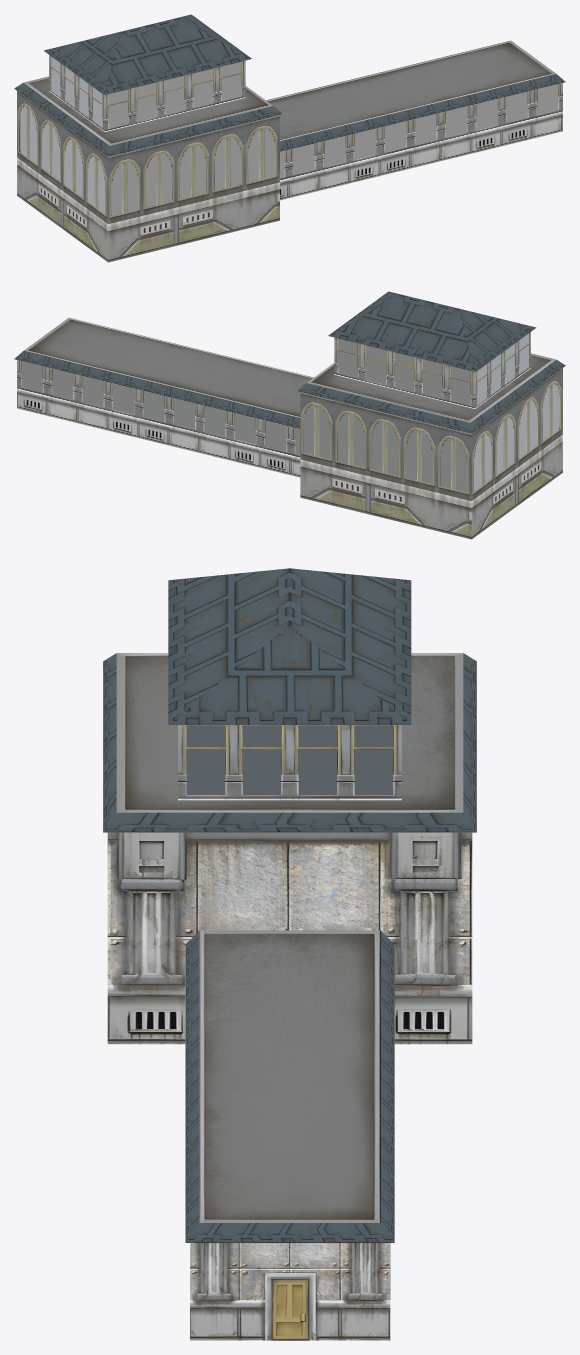
The model's file is s_main_leftwing_hdtex.glb.
3 views of the same model, one above another, from view 1: azimuth 30°, elevation 25°; view 2: azimuth 150°, elevation 25°; view 3: azimuth 270°, elevation 25° (orthographic). The views are drawn at different scales.
Parts seen in each view (by area): view 1: S_HC_LeftwingA, LitWin_S_Main_Leftwing; view 2: S_HC_LeftwingA, LitWin_S_Main_Leftwing; view 3: S_HC_LeftwingA, LitWin_S_Main_Leftwing.
Part boxes in pixels (x1,y1,x2,y2): S_HC_LeftwingA: (14,14,565,262); LitWin_S_Main_Leftwing: (20,56,557,215); S_HC_LeftwingA: (14,291,565,539); LitWin_S_Main_Leftwing: (22,333,559,492); S_HC_LeftwingA: (103,568,476,1340); LitWin_S_Main_Leftwing: (186,726,392,795).
Size of the model in its own units: 43.99 by 16.03 by 14.86.
5 materials, 5 textured.
